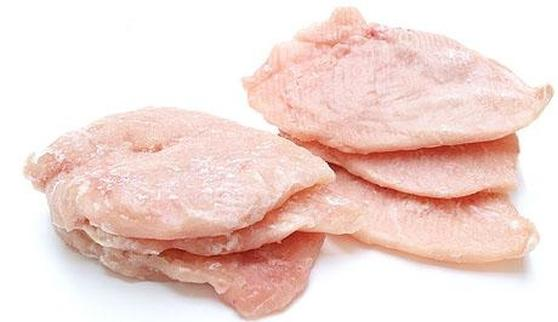chicken_fillet: (270, 22, 537, 196)
